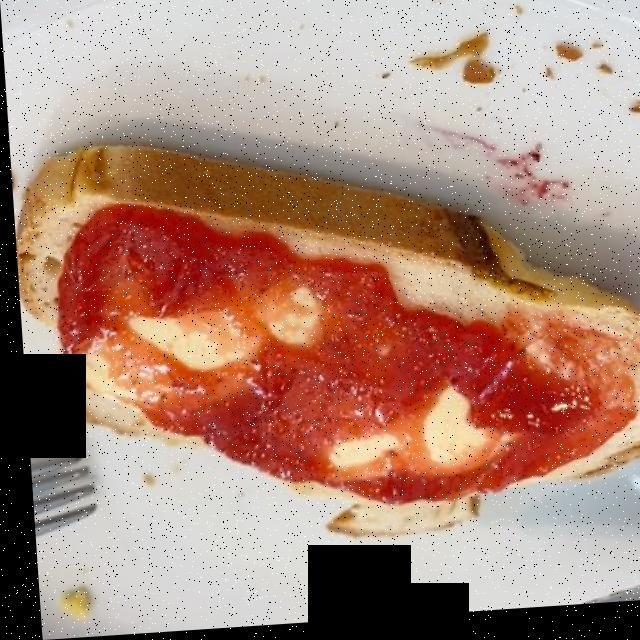bread: (20, 157, 640, 547)
jam: (63, 196, 627, 519)
